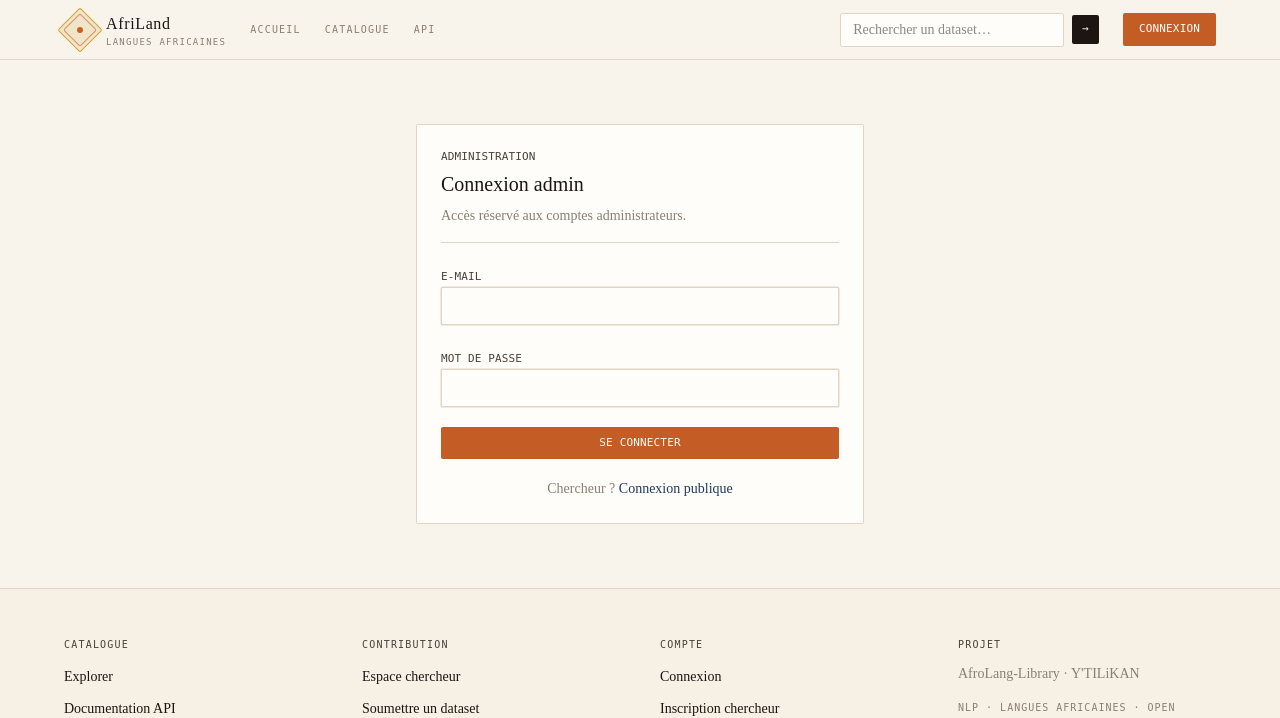
Test: AdminGate (Story 4.3) › purge la session quand un chercheur se connecte par le formulaire admin
In the field labelled "E-mail": (640, 306) [441,286,839,324], type "kofi@example.com"
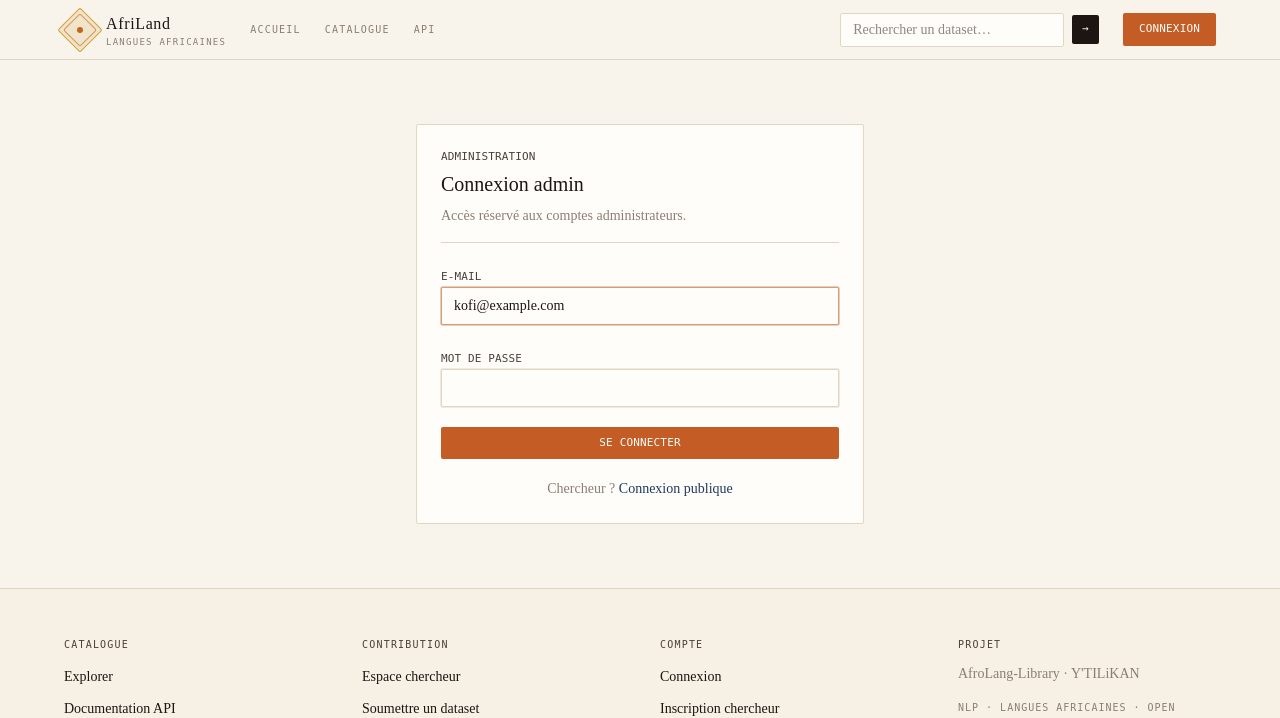
In the password field labelled "Mot de passe": (640, 388) [441,368,839,406], type "password123"
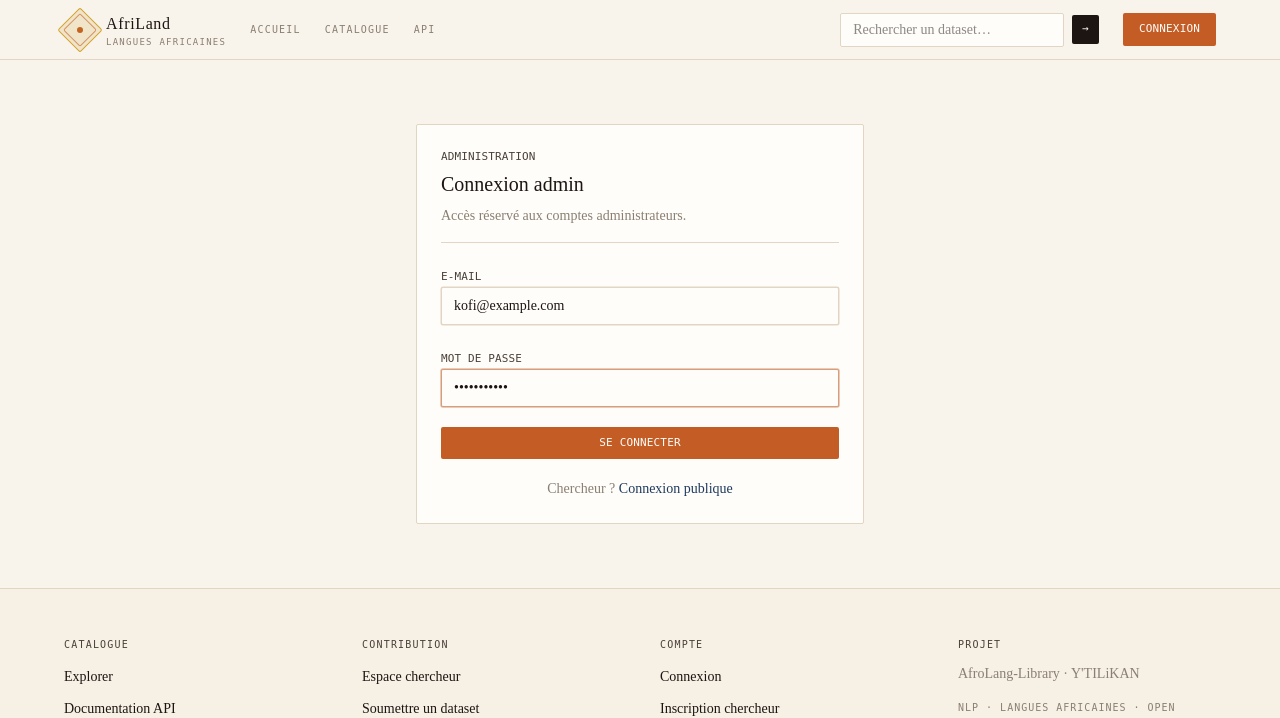
Click the button "Se connecter": (640, 443) [441,426,839,459]
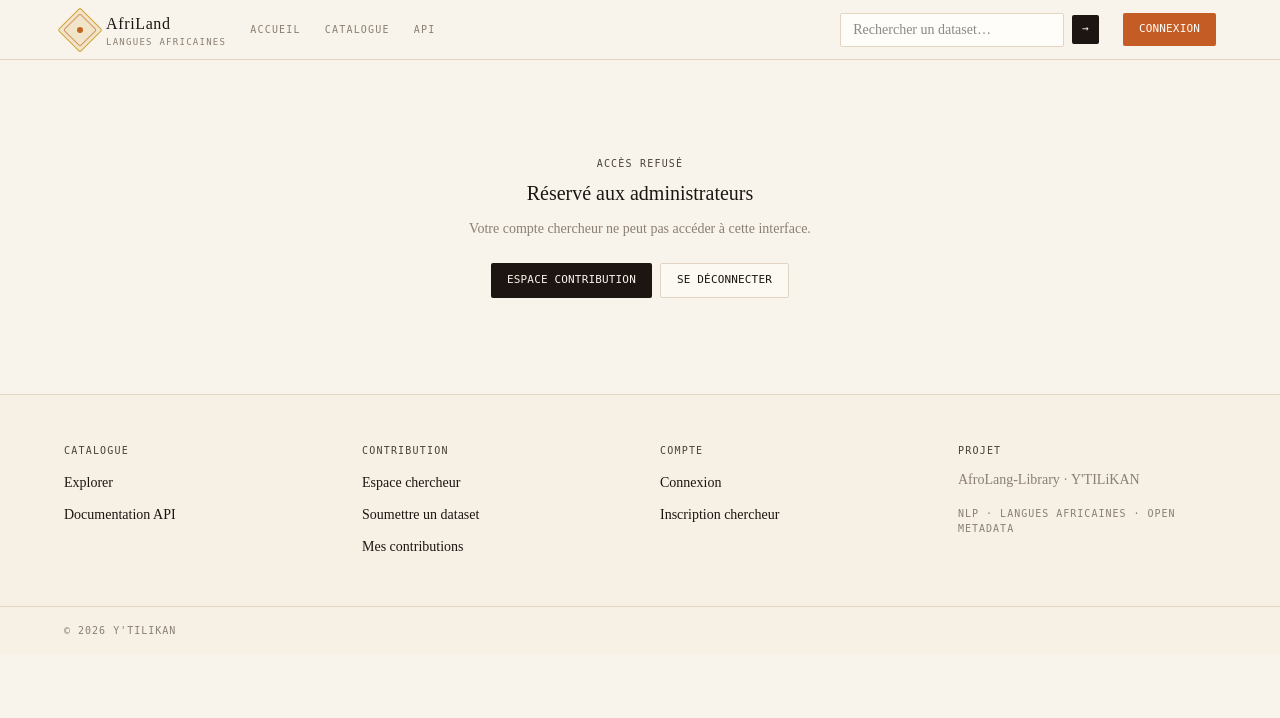
expect the heading "Réservé aux administrateurs" is shown: met, box [527,182,753,204]
